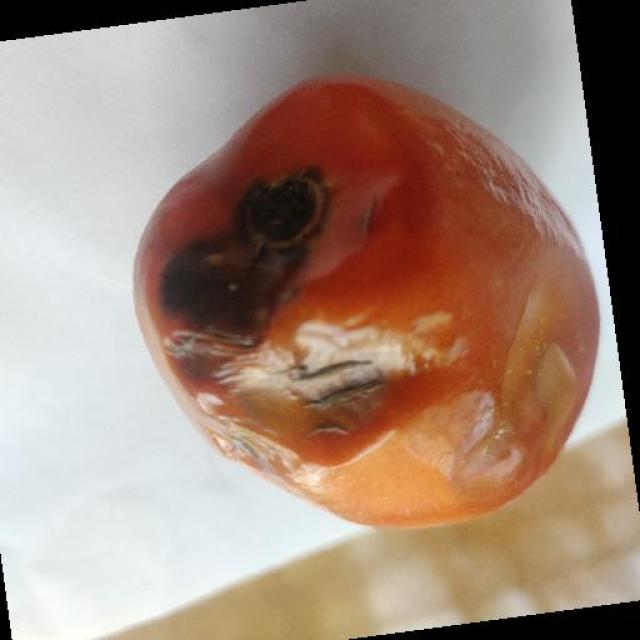Stale_tomato: (119, 104, 611, 484)
